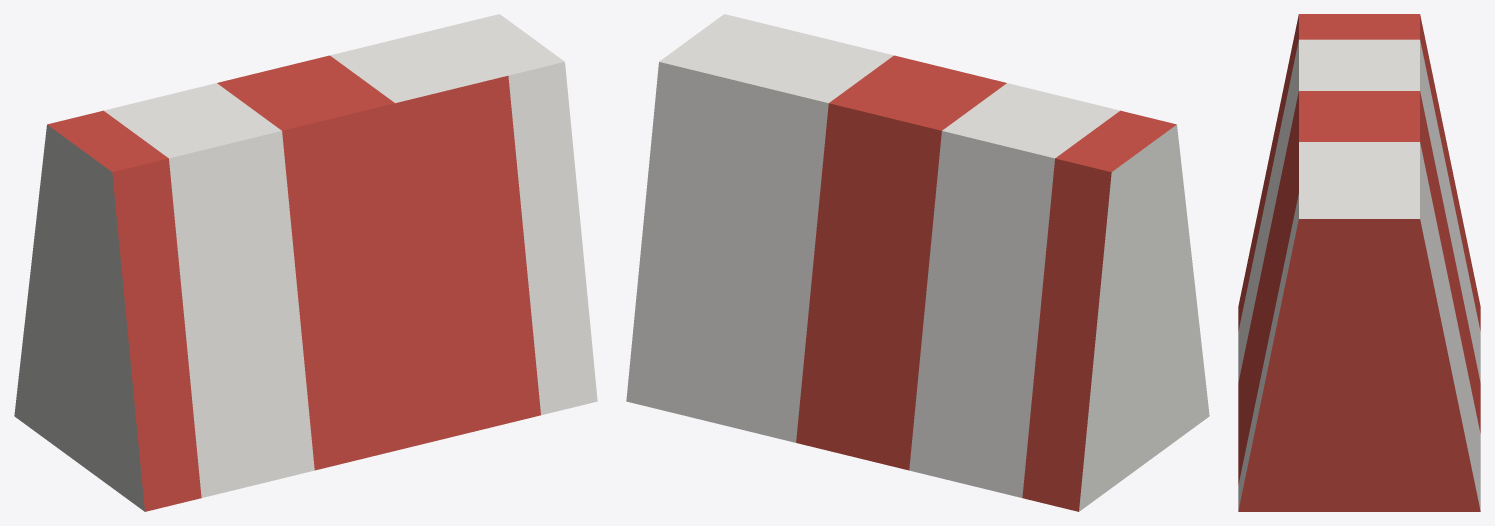
The model's file is barrier_block_redwhite.glb.
3 renders of one model, left to right at view 1: azimuth 30°, elevation 25°; view 2: azimuth 150°, elevation 25°; view 3: azimuth 270°, elevation 25°, orthographic. The views are drawn at different scales.
Parts seen in each view (by area): view 1: barrier_block_redwhite; view 2: barrier_block_redwhite; view 3: barrier_block_redwhite.
Part boxes in pixels (box(x1,y1,x2,y2)): barrier_block_redwhite: box(14, 14, 597, 511); barrier_block_redwhite: box(626, 14, 1209, 511); barrier_block_redwhite: box(1238, 14, 1480, 511).
Bounding box in the file's own units: 1.2 × 0.8 × 0.6.
